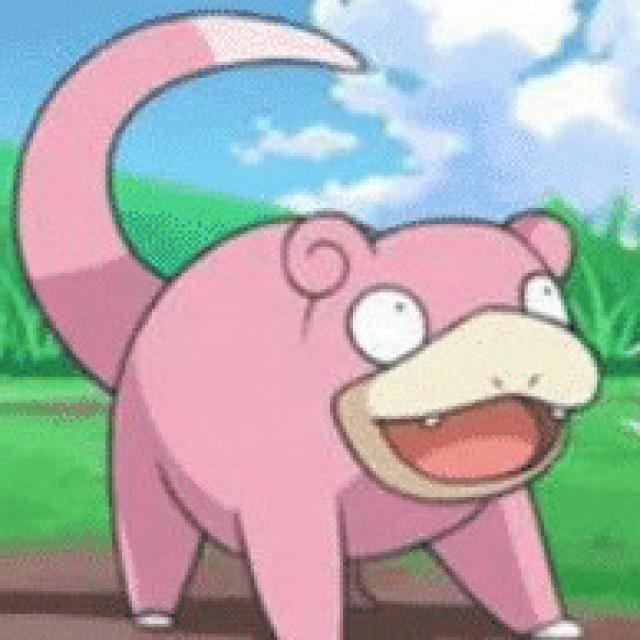Slowpoke: (93, 157, 617, 640)
